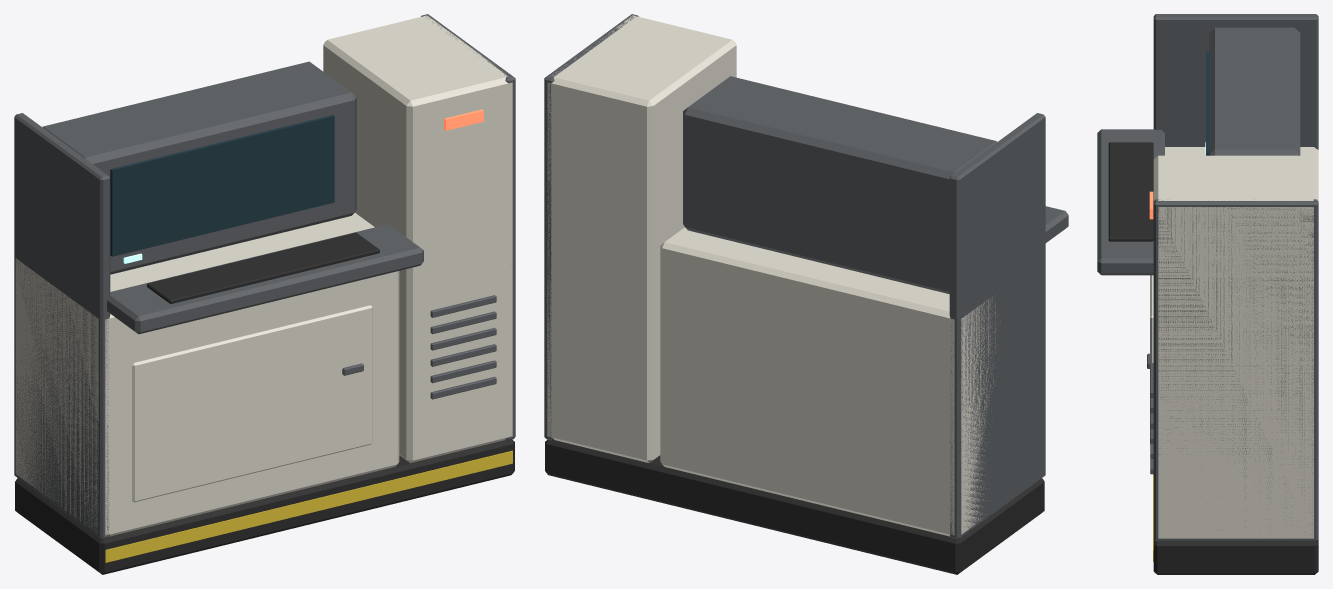
File: console_1200.glb
3 views of the same model, side by side, from view 1: azimuth 30°, elevation 25°; view 2: azimuth 150°, elevation 25°; view 3: azimuth 270°, elevation 25° (orthographic). The views are drawn at different scales.
Visible parts, largest first — view 1: console_1200; view 2: console_1200; view 3: console_1200.
Boxes of the visible parts, x1,y1,x2,y2 form: console_1200: (14, 14, 515, 574); console_1200: (544, 14, 1068, 574); console_1200: (1097, 14, 1318, 574).
Bounding box in the file's own units: 1.2 × 1.1 × 0.59.
